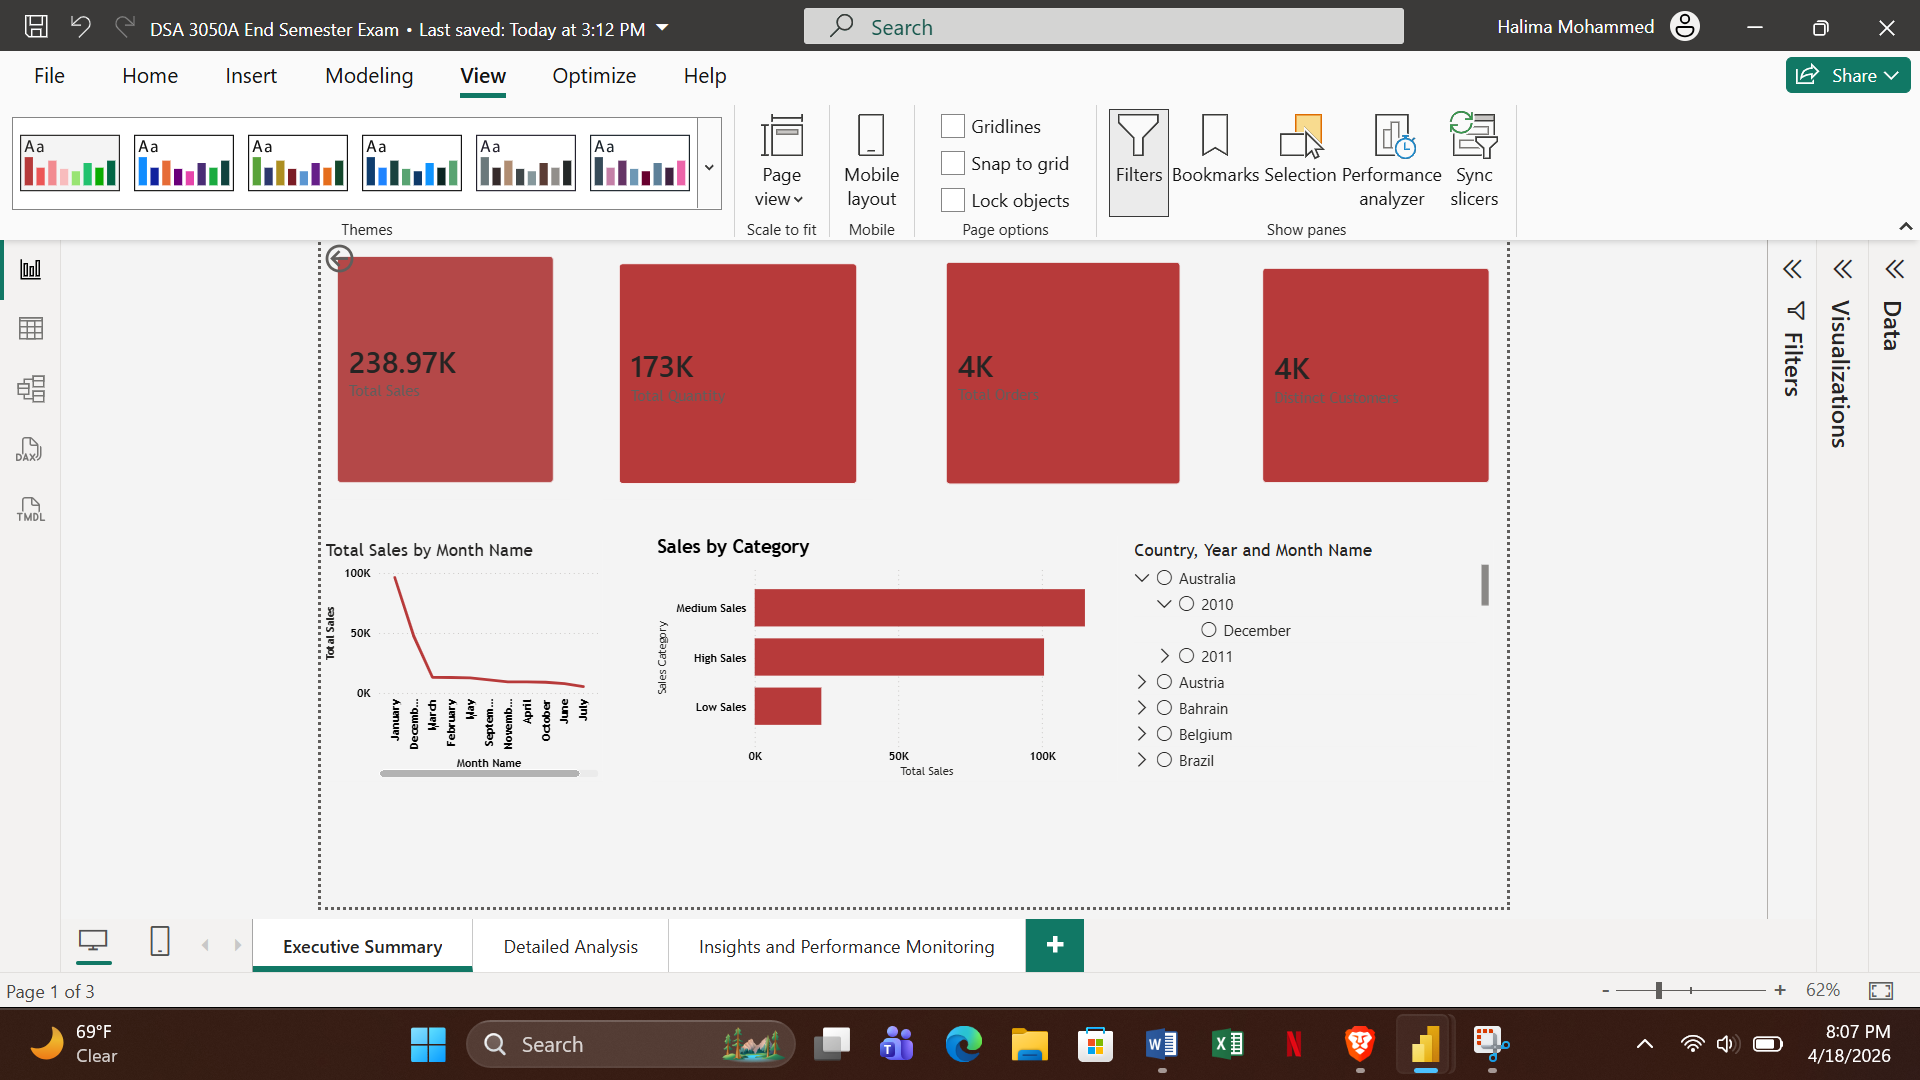

This screenshot's page, from the dashboard's own definition file:
{"tool":"powerbi","page":{"name":"Executive Summary","canvas":[1280,720],"ordinal":0},"visuals":[{"type":"cardVisual","title":"TOTAL SALES ","fields":{"Data":["Fact_sales.Total Sales"]},"box":[0,0,268.3,279.7],"z":0},{"type":"cardVisual","fields":{"Data":["Fact_sales.Total Quantity"]},"box":[304.3,7.6,291,272.1],"z":1},{"type":"cardVisual","fields":{"Data":["Fact_sales.Total Orders"]},"box":[657.6,5.7,287.2,274],"z":2},{"type":"cardVisual","fields":{"Data":["Fact_sales.Distinct Customers"]},"box":[999.7,13.2,279.7,266.5],"z":3},{"type":"lineChart","fields":{"Y":["Fact_sales.Total Sales"],"Category":["Dim_Date.Month Name"]},"box":[0,323.2,304.3,260.8],"z":4},{"type":"barChart","title":"Sales by Category","fields":{"Category":["Fact_sales.Sales Category "],"Y":["Fact_sales.Total Sales"]},"box":[357.8,319,502,265.6],"z":5},{"type":"actionButton","box":[0,0,100,40],"z":7},{"type":"listSlicer","fields":{"Values":["Dim_Customers.Country","Fact_sales.Year","Fact_sales.Month Name"]},"box":[873.1,323.2,393.1,260.8],"z":8}]}

Visuals, with their boxes on the page's 1280x720 design canvas (x1, y1, x2, y2). These are canvas units, not pixel positions in the 1920x1080 screenshot, which may show the page scaled, cropped or inside an application window:
"TOTAL SALES " cardVisual: (left=0, top=0, right=268, bottom=280)
cardVisual - Fact_sales.Total Quantity: (left=304, top=8, right=595, bottom=280)
cardVisual - Fact_sales.Total Orders: (left=658, top=6, right=945, bottom=280)
cardVisual - Fact_sales.Distinct Customers: (left=1000, top=13, right=1279, bottom=280)
lineChart - Fact_sales.Total Sales x Dim_Date.Month Name: (left=0, top=323, right=304, bottom=584)
"Sales by Category" barChart: (left=358, top=319, right=860, bottom=585)
actionButton: (left=0, top=0, right=100, bottom=40)
listSlicer - Dim_Customers.Country x Fact_sales.Year: (left=873, top=323, right=1266, bottom=584)
